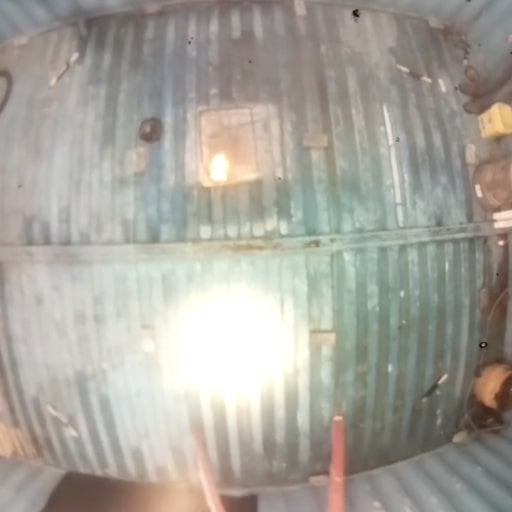Fire: (206, 151, 230, 182)
